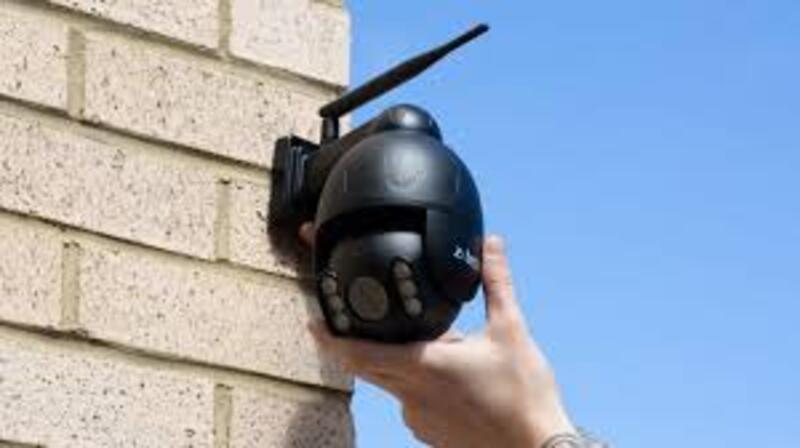ptz: (313, 126, 488, 350)
